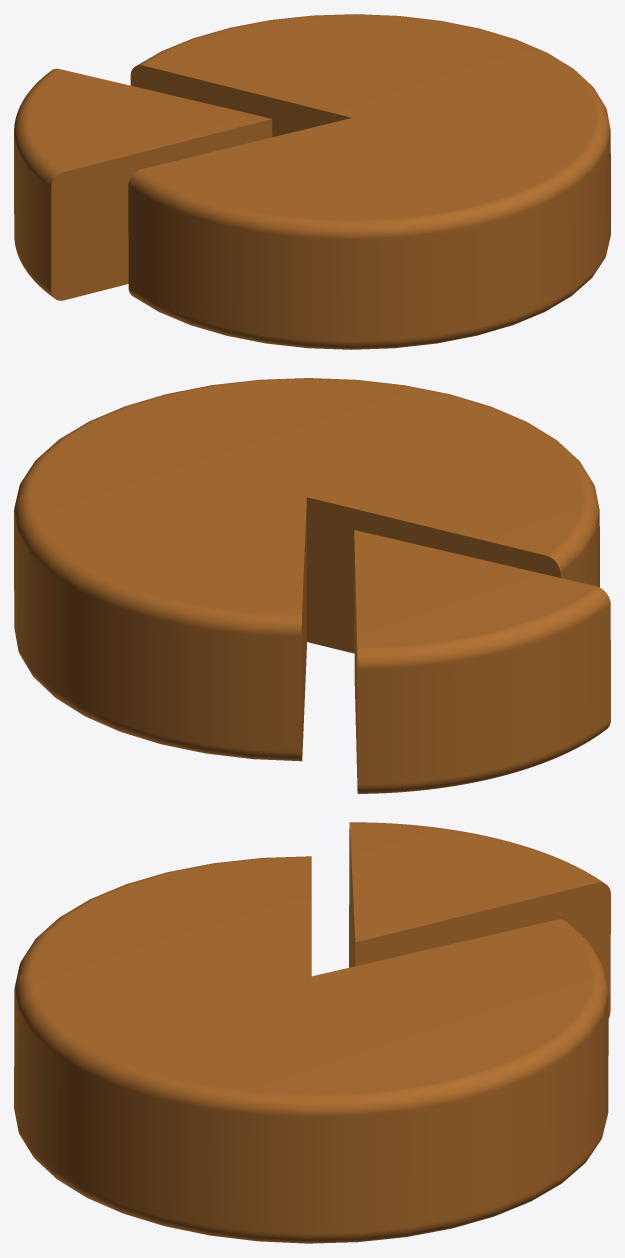
The model's file is LBSR_Cheese_wheel.fbx.
3 renders of one model, top to bottom at view 1: azimuth 30°, elevation 25°; view 2: azimuth 150°, elevation 25°; view 3: azimuth 270°, elevation 25°, orthographic. The views are drawn at different scales.
Parts seen in each view (by area): view 1: Cheddar cheese wheel, Cheddar cheese wheel block; view 2: Cheddar cheese wheel, Cheddar cheese wheel block; view 3: Cheddar cheese wheel, Cheddar cheese wheel block.
Part boxes in pixels (x1,y1,x2,y2): Cheddar cheese wheel: (128, 14, 610, 349); Cheddar cheese wheel block: (14, 68, 272, 300); Cheddar cheese wheel: (14, 378, 599, 761); Cheddar cheese wheel block: (354, 530, 610, 793); Cheddar cheese wheel: (14, 856, 608, 1243); Cheddar cheese wheel block: (349, 822, 610, 1018).
Bounding box in the file's own units: 2.74 × 0.6688 × 2.43.
